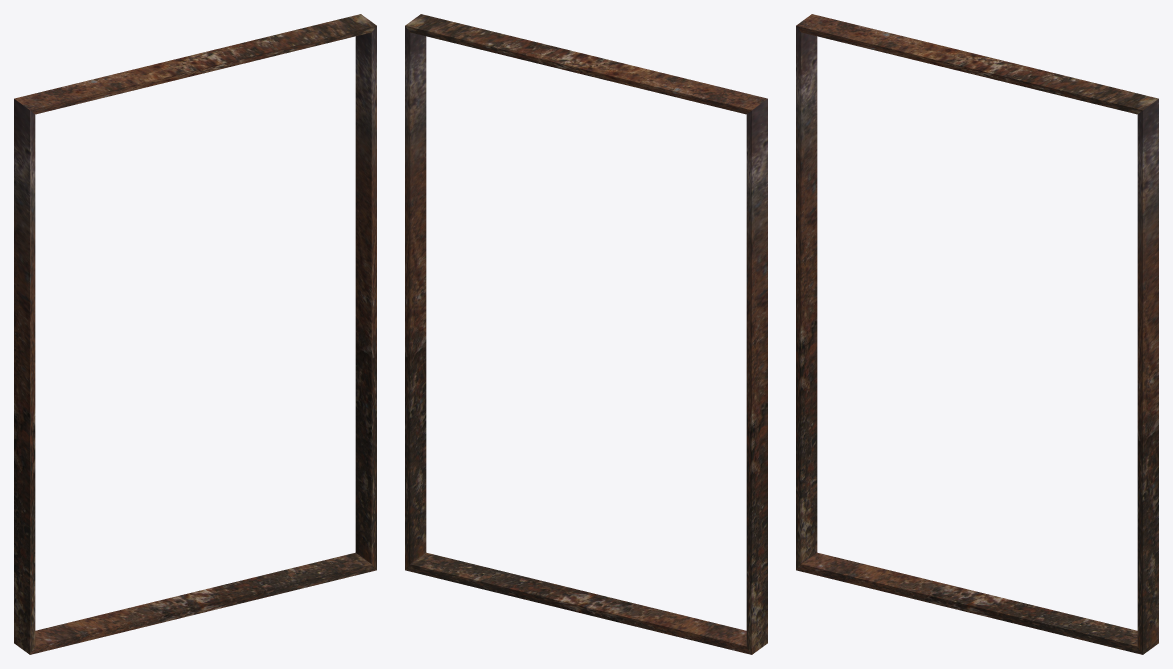
File: Gitter-Türrahmen.gltf
The picture shows the model from 3 angles, left to right: view 1: azimuth 30°, elevation 25°; view 2: azimuth 150°, elevation 25°; view 3: azimuth 330°, elevation 25°; orthographic projection.
Parts seen in each view (by area): view 1: Gitter-Türrahmen; view 2: Gitter-Türrahmen; view 3: Gitter-Türrahmen.
Boxes of the visible parts, x1,y1,x2,y2 form: Gitter-Türrahmen: (14, 14, 376, 654); Gitter-Türrahmen: (405, 14, 767, 654); Gitter-Türrahmen: (796, 14, 1158, 654).
Size of the model in its own units: 2 by 3 by 0.16.
1 material, 1 textured.
